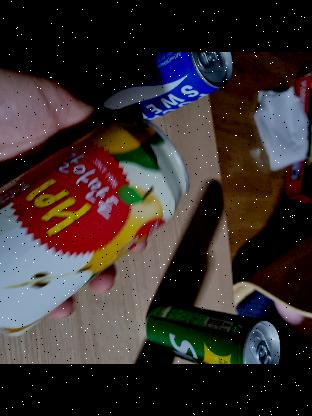Can: (0, 116, 187, 337), (149, 303, 280, 364)
